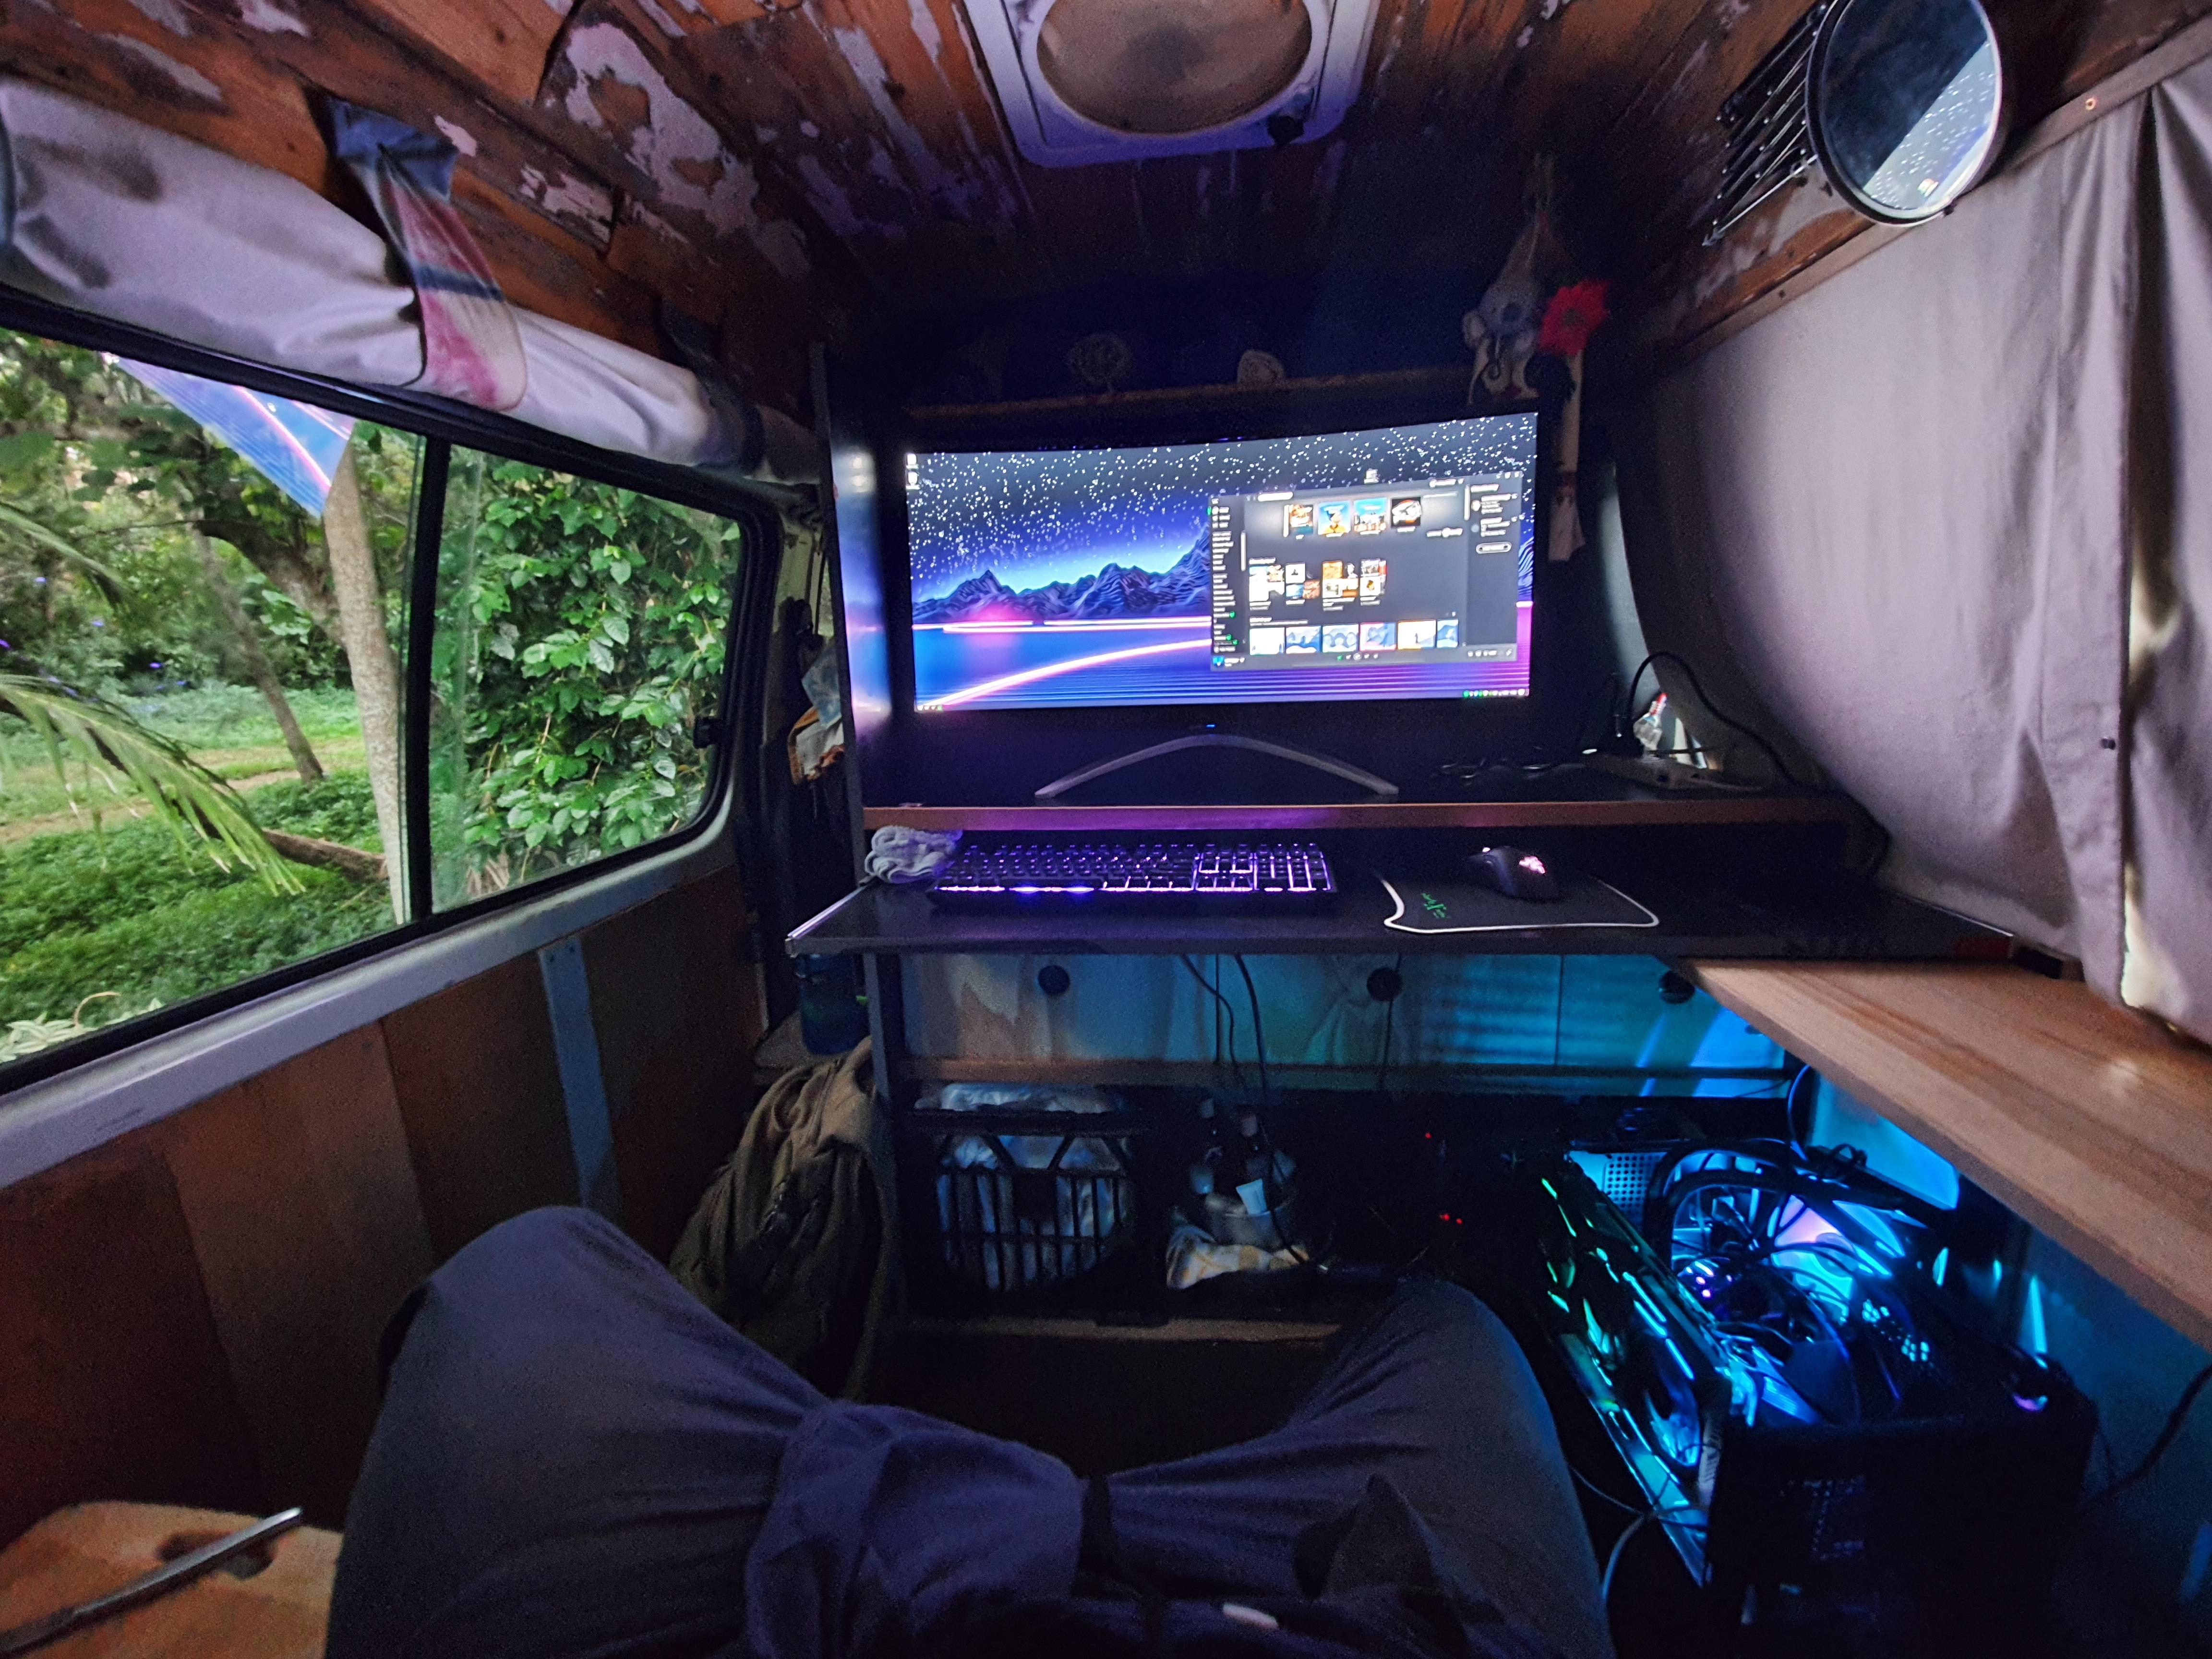Desk (Generic): (751, 795, 1975, 1412)
Desktop (Linux): (1510, 1121, 2132, 1588)
Keyboard (Gaming): (923, 826, 1345, 920)
Monitor (Landscape): (902, 387, 1576, 763)
Mouse (Gaming): (1454, 821, 1580, 906)
Mousepad (Gaming): (1350, 838, 1693, 962)
Power Strip: (1587, 664, 1780, 796)
